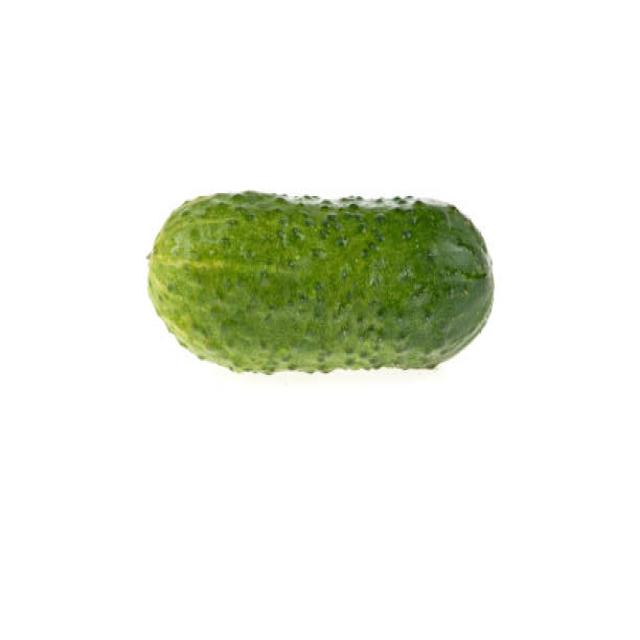cucumber: (148, 191, 494, 374)
